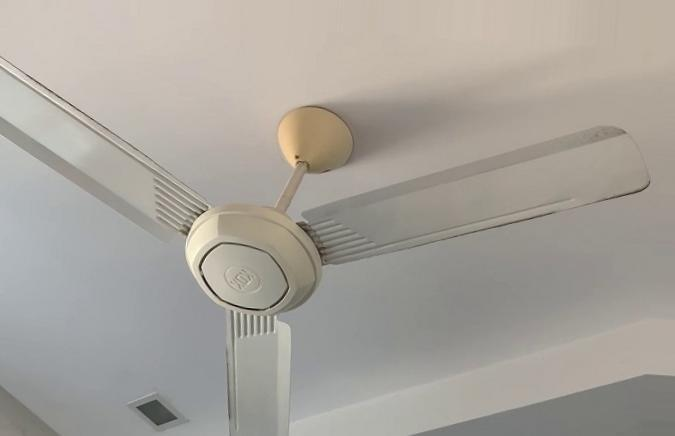fan: (0, 42, 670, 436)
light: (108, 388, 193, 436)
